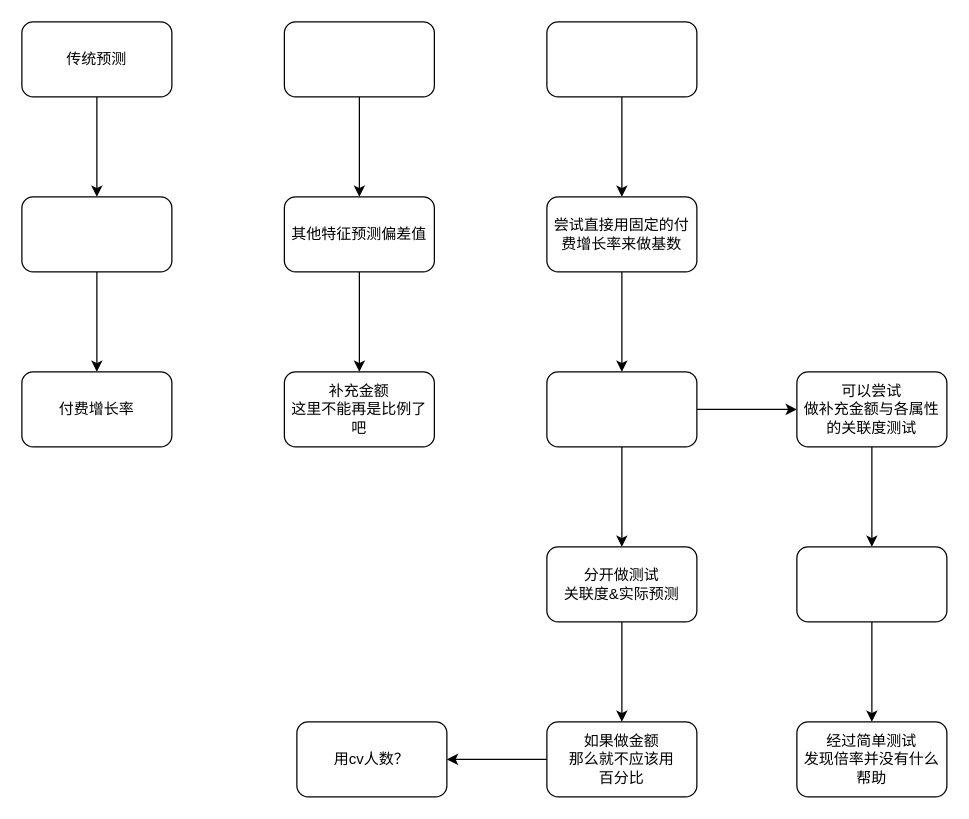
The diagram is 969 pixels wide and 819 high, and some of its shapes have lost their labels. Each missing label, with the box of its shape:
如果是预测比例， 那么关联度应该是类似的？或者不是: (796, 546, 947, 622)
补充预测: (283, 21, 434, 97)
补充预测v2: (546, 21, 697, 97)
预测补充金额 或者补充比例: (546, 371, 697, 447)
首日付费预测7日付费: (21, 196, 172, 272)
